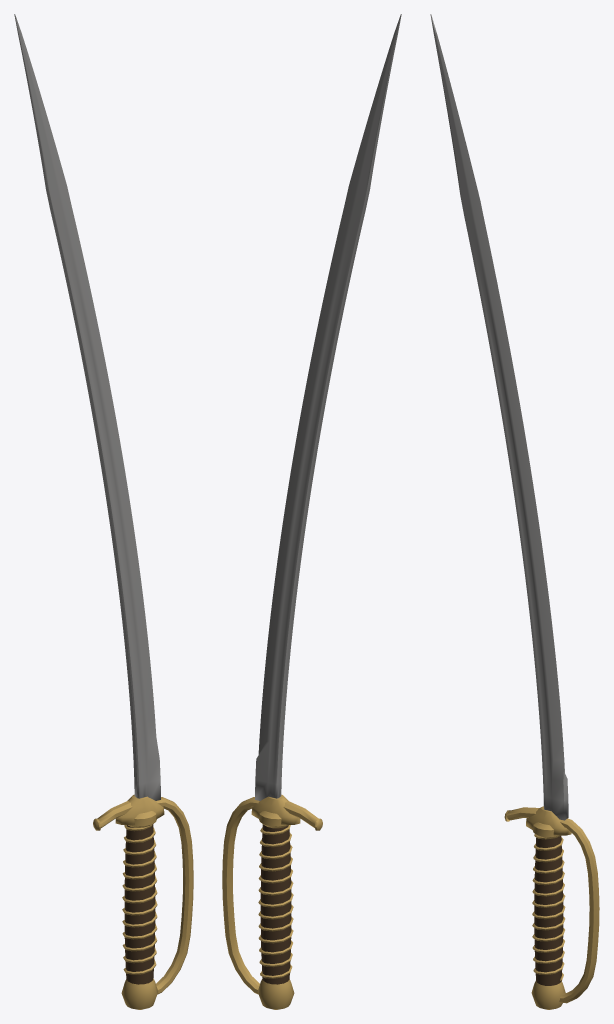
Rendered from gear_frontier_sabre.glb.
The picture shows the model from 3 angles, left to right: view 1: azimuth 30°, elevation 25°; view 2: azimuth 150°, elevation 25°; view 3: azimuth 330°, elevation 25°; orthographic projection. The views are drawn at different scales.
Parts seen in each view (by area): view 1: gear_frontier_sabre; view 2: gear_frontier_sabre; view 3: gear_frontier_sabre.
Part boxes in pixels (x1,y1,x2,y2): gear_frontier_sabre: [14, 14, 193, 1009]; gear_frontier_sabre: [222, 14, 401, 1009]; gear_frontier_sabre: [430, 14, 599, 1009].
Size of the model in its own units: 0.2015 by 1.11 by 0.0343.
